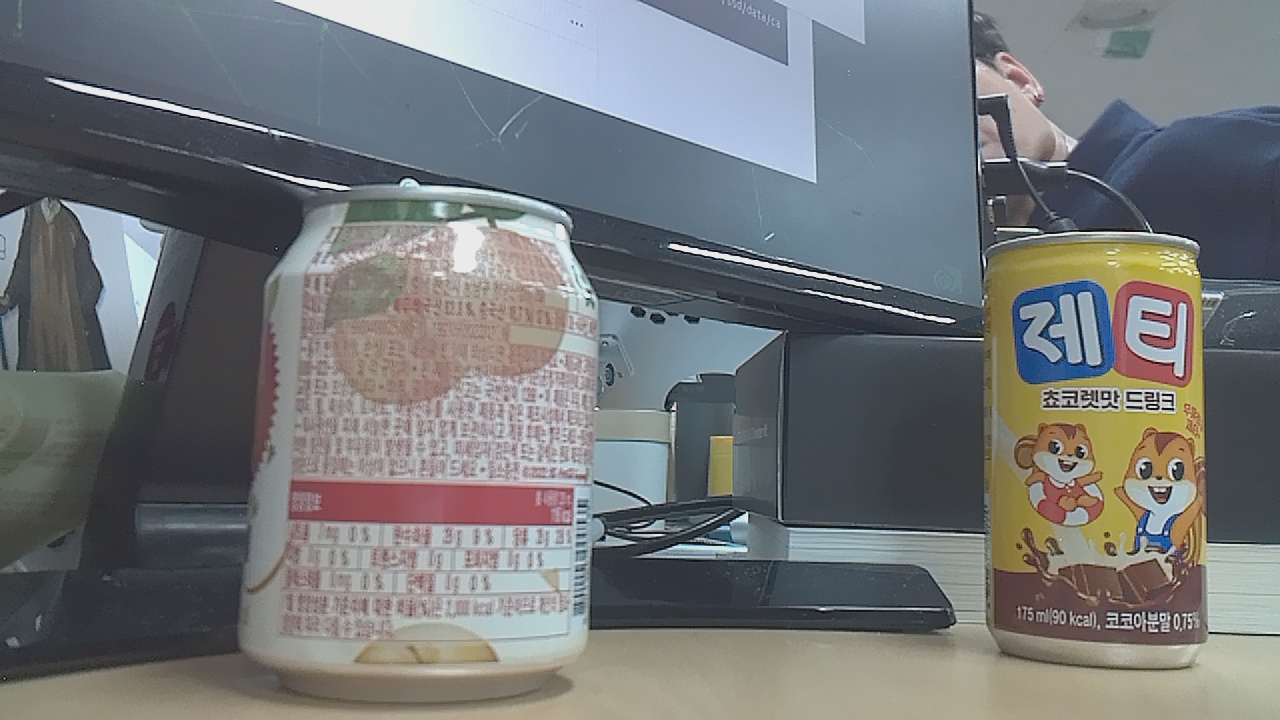IdH (pear juice): (247, 139, 618, 685)
jetty: (966, 225, 1233, 685)
